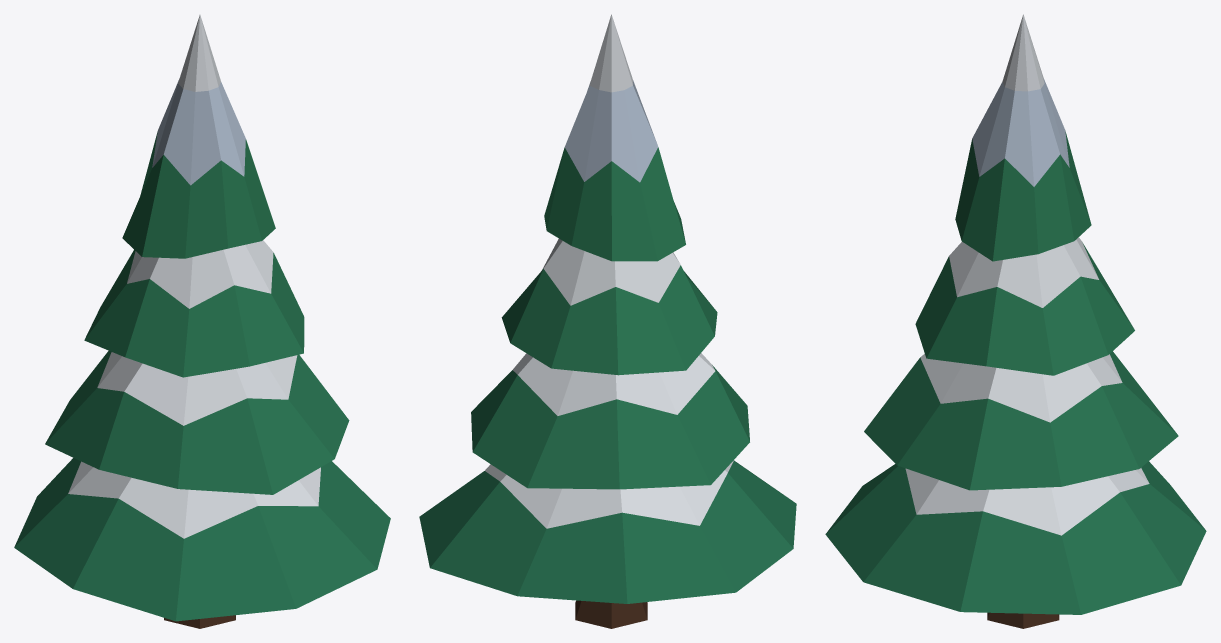
Rendered from Pine_Medium.glb.
The picture shows the model from 3 angles, left to right: view 1: azimuth 30°, elevation 25°; view 2: azimuth 150°, elevation 25°; view 3: azimuth 270°, elevation 25°; orthographic projection.
Visible parts, largest first — view 1: Pine_Medium; view 2: Pine_Medium; view 3: Pine_Medium.
Boxes of the visible parts, box(x1,y1,x2,y2) form: Pine_Medium: box(14, 14, 390, 628); Pine_Medium: box(419, 14, 796, 628); Pine_Medium: box(825, 14, 1206, 628).
Bounding box in the file's own units: 6.1 × 10.93 × 6.32.
